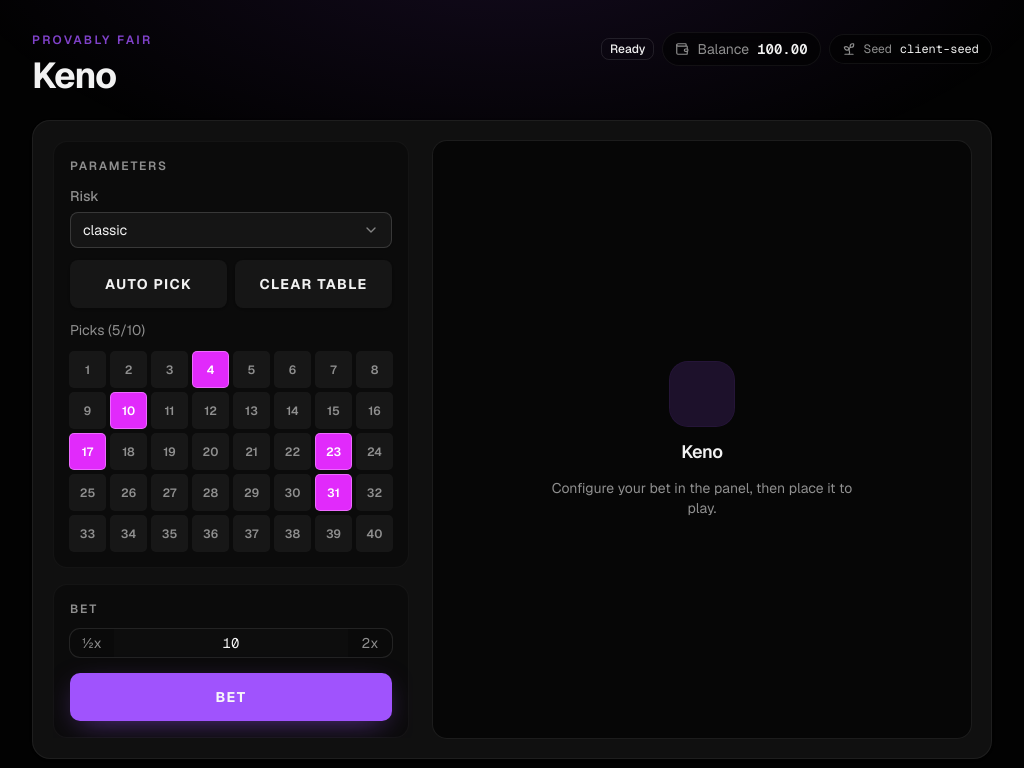
Test: GamePage reveal flow (previously-broken single-reveal games) › reaches phase=done and renders ResultOverlay after a keno bet
Click the button "BET" at coordinates (231, 697), box top-left (70, 673), bottom-right (392, 721)
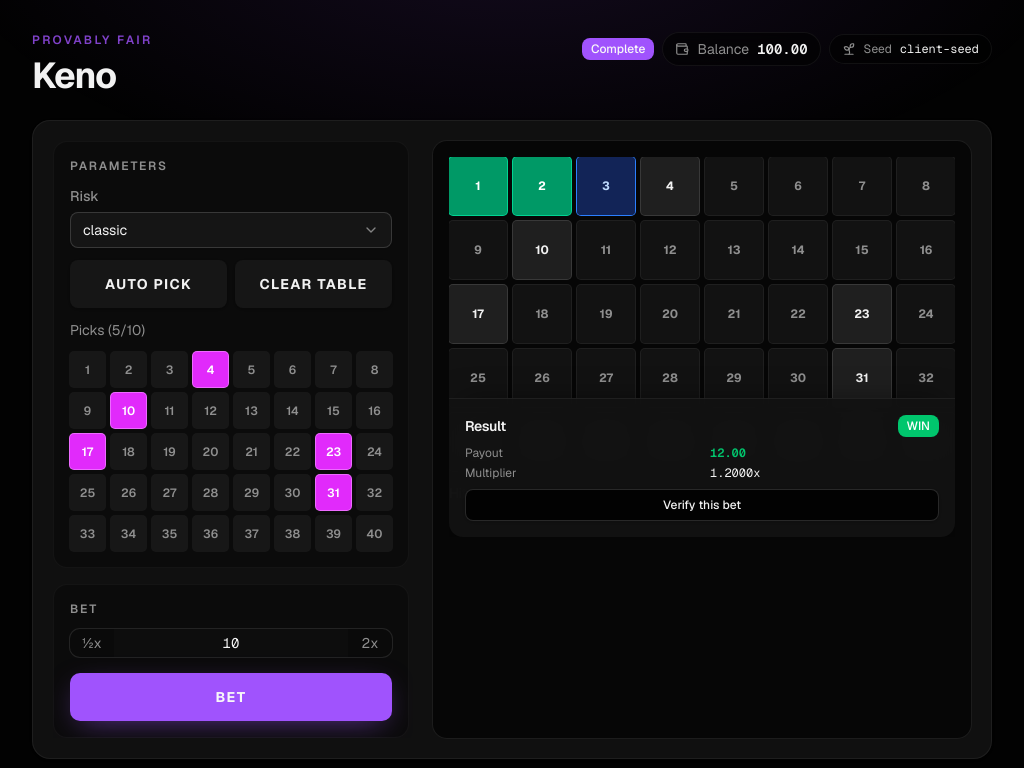
Expected: the text "Result" is shown, top-left (465, 416), bottom-right (506, 436)
Expected: the link "Verify this bet" is shown, top-left (465, 489), bottom-right (939, 521)
